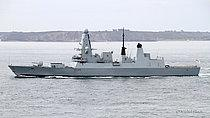MIL_Ship: (7, 27, 200, 78)
